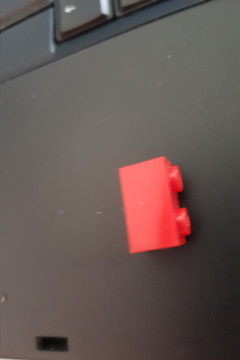1x2 red: (115, 154, 193, 256)
